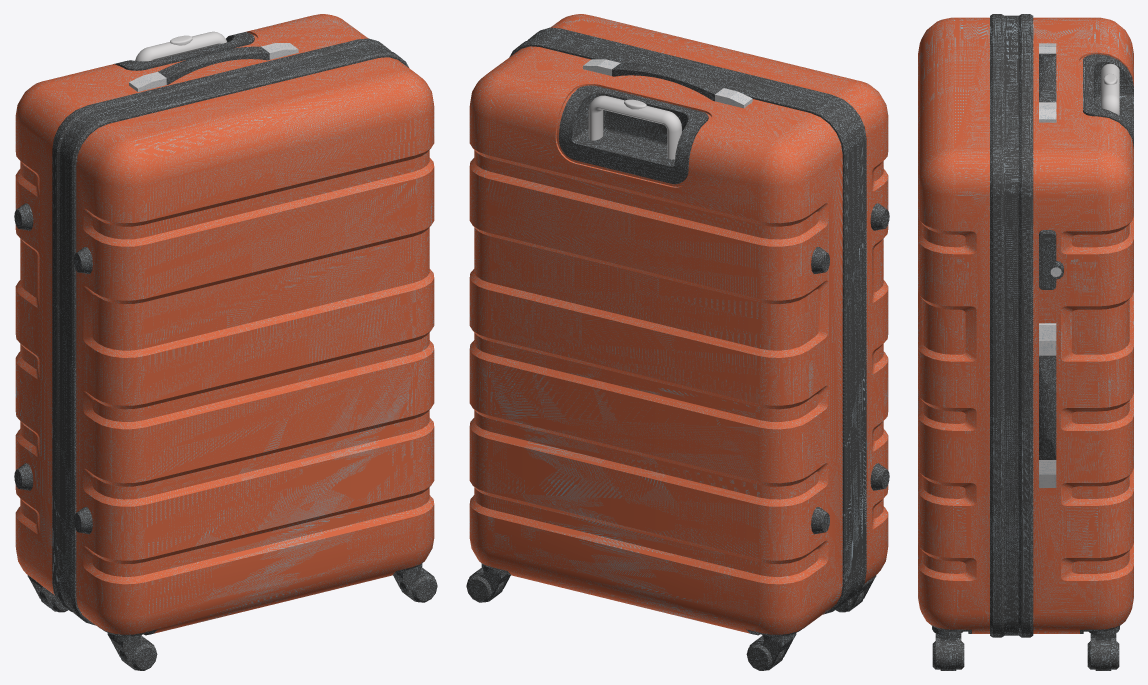
The picture shows the model from 3 angles, left to right: view 1: azimuth 30°, elevation 25°; view 2: azimuth 150°, elevation 25°; view 3: azimuth 270°, elevation 25°; orthographic projection. The views are drawn at different scales.
Parts seen in each view (by area): view 1: SketchUp (×8); view 2: SketchUp (×8); view 3: SketchUp (×13).
Part boxes in pixels (x1,y1,x2,y2): SketchUp (×8): (15, 14, 437, 670); SketchUp (×8): (466, 14, 888, 670); SketchUp (×13): (918, 14, 1133, 670).
Bounding box in the file's own units: 21.97 × 11.81 × 31.86.
